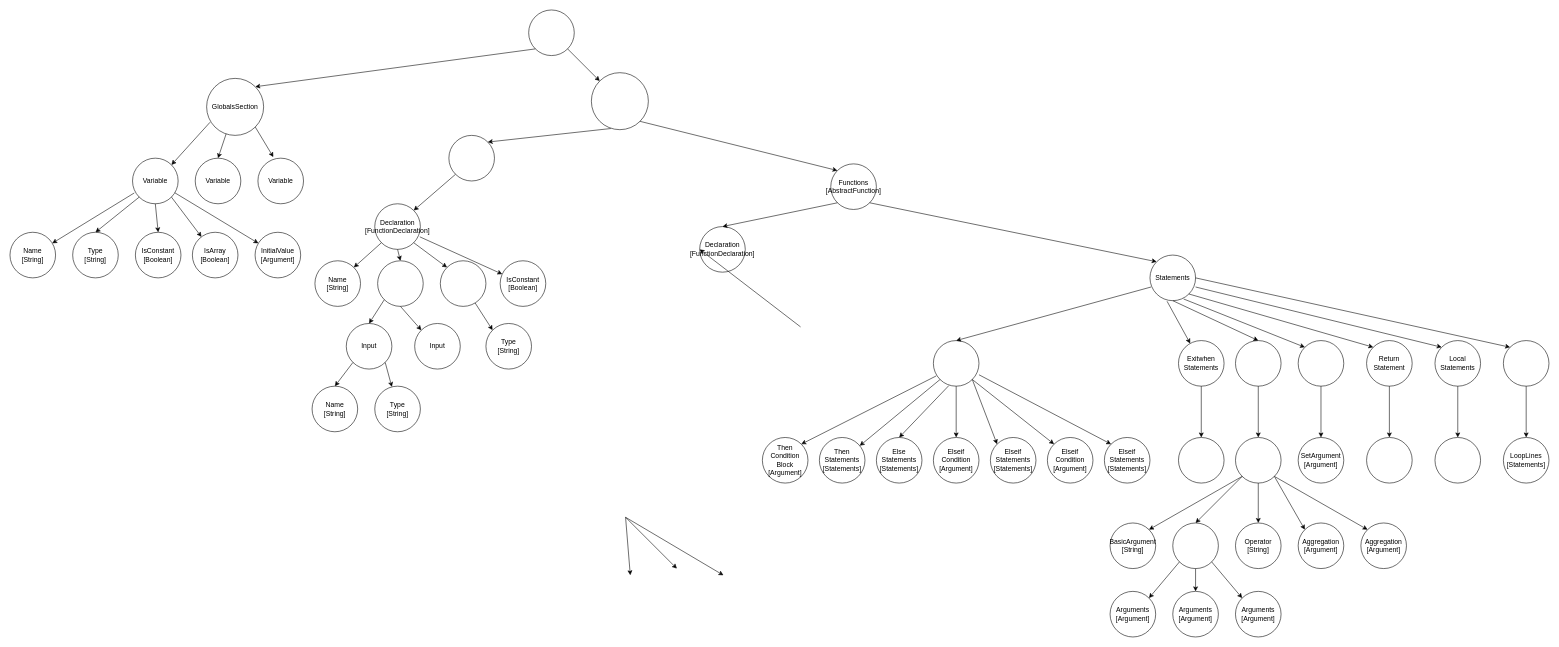
This 1559x647 diagram has some shape labels left out. Each missing label, with the centre of its shape:
Call Statement: (x=1258, y=363)
CallArgument [Argument]: (x=1258, y=460)
ExitwhenCondition [ConditionBlock]: (x=1201, y=460)
FunctionCall [FunctionCall]: (x=1195, y=545)
FunctionsSection: (x=619, y=101)
If Statements: (x=956, y=363)
Inputs: (x=400, y=283)
LocalVariable [Variable]: (x=1457, y=460)
Loop Statements: (x=1526, y=363)
Natives [AbstractFunction]: (x=471, y=158)
Output: (x=463, y=283)
ReturnArgument [Argument]: (x=1389, y=460)
Script: (x=551, y=32)
Set Statement: (x=1321, y=363)
